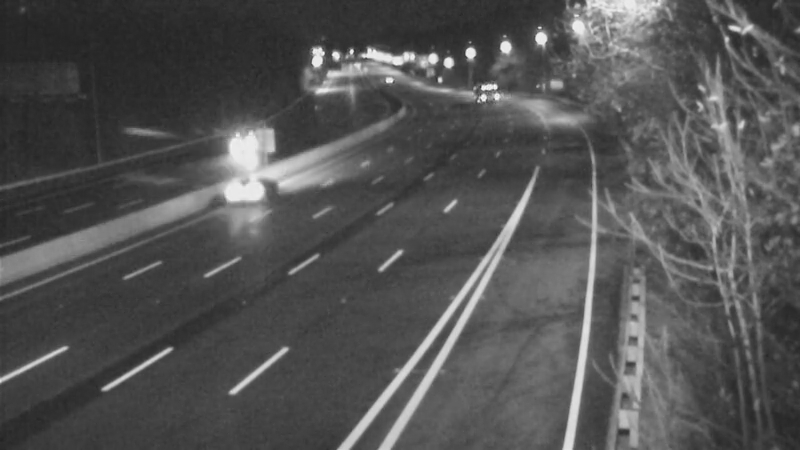vehicle: (209, 146, 289, 226), (361, 53, 411, 103), (461, 66, 511, 116), (218, 118, 268, 168)
